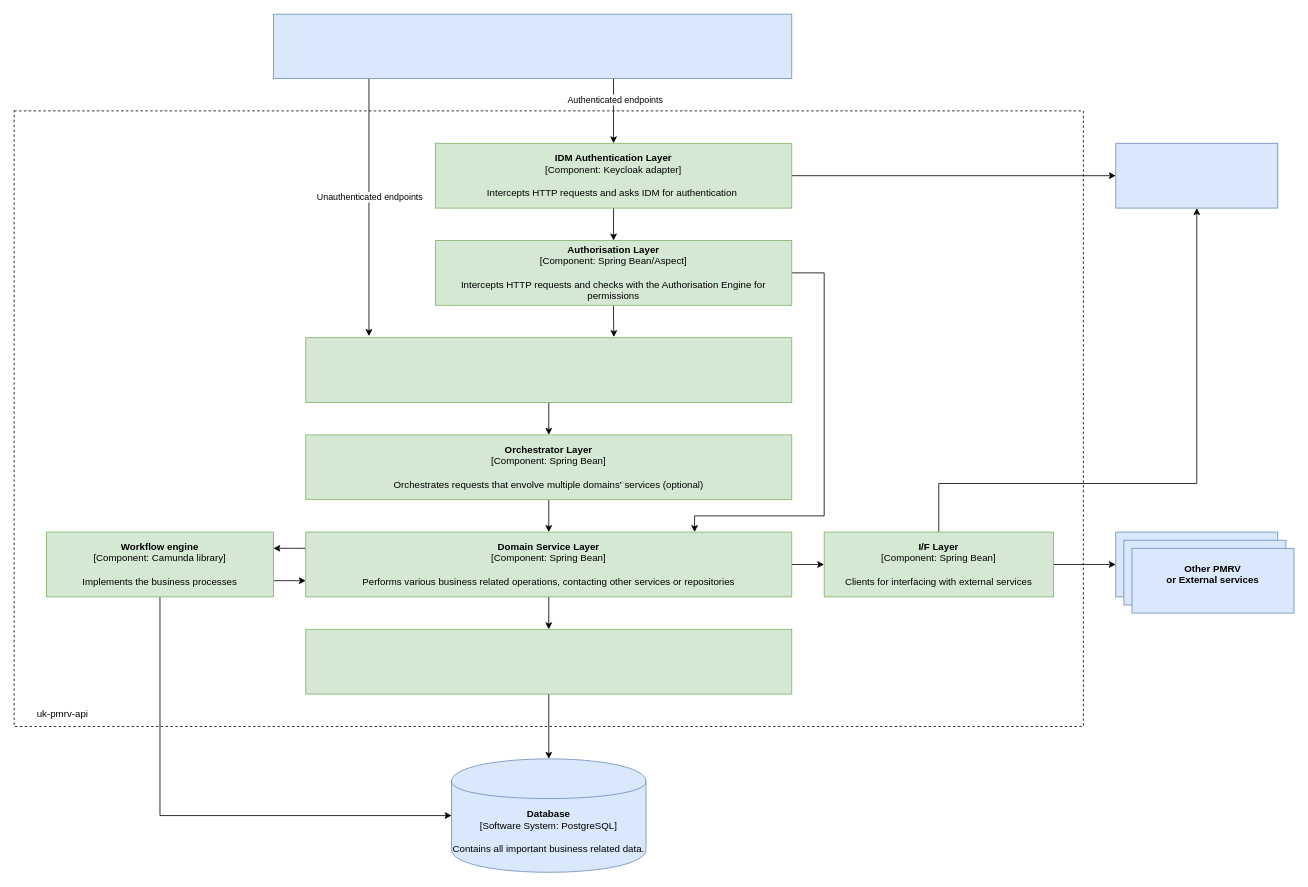
The diagram is 1308 pixels wide and 887 high, and some of its shapes have lost their labels. Here are the shapes that lost their labels. From the top down, the centre of each, then its label:
pixel 532 45: PMRV API Client - PMRV Web App [Container: Browser ] The UI application
pixel 1196 175: Identity Manager [Container: Keycloak ] The authentication manager
pixel 548 369: Controller Layer [Component: Spring Bean ] Receives HTTP requests from the API
pixel 548 661: Domain Repository Layer [Component: Spring Bean] Perform CRUD operations
